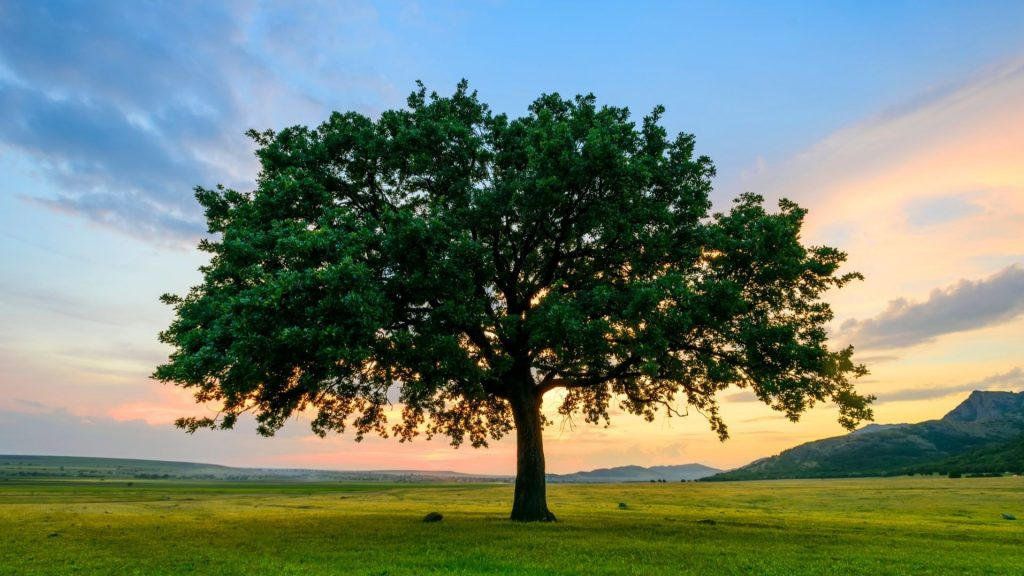grass: (3, 476, 506, 570), (550, 479, 1017, 570)
tree: (507, 391, 554, 527)
